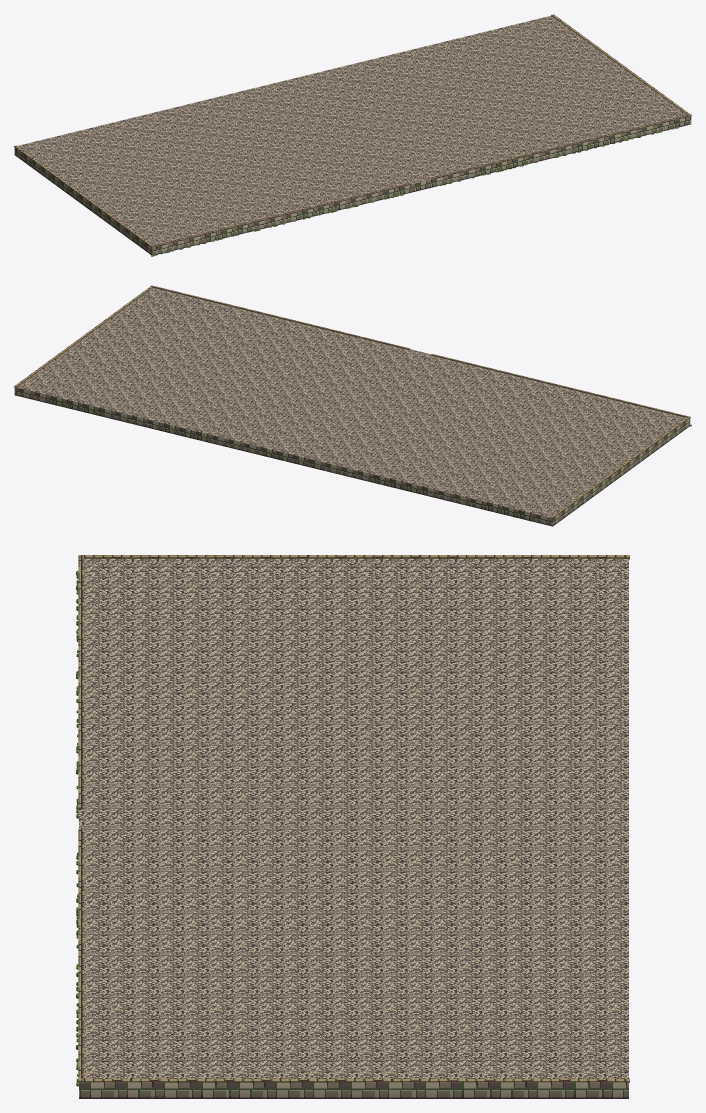
The model's file is scene_nave.glb.
The picture shows the model from 3 angles, top to bottom: view 1: azimuth 30°, elevation 25°; view 2: azimuth 150°, elevation 25°; view 3: azimuth 270°, elevation 25°; orthographic projection. The views are drawn at different scales.
Parts seen in each view (by area): view 1: scene_nave; view 2: scene_nave; view 3: scene_nave.
Boxes of the visible parts, x1=… form: scene_nave: x1=14, y1=14, x2=691, y2=256; scene_nave: x1=14, y1=285, x2=691, y2=526; scene_nave: x1=76, y1=555, x2=629, y2=1098.
Bounding box in the file's own units: 80.26 × 1.37 × 35.64.
Materials: 3 (2 with a texture image).
